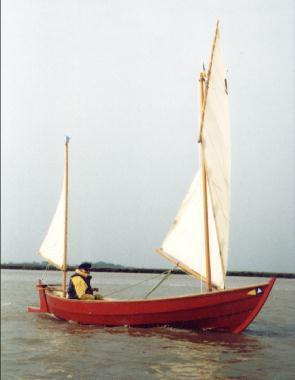Ship: (37, 17, 278, 339)
